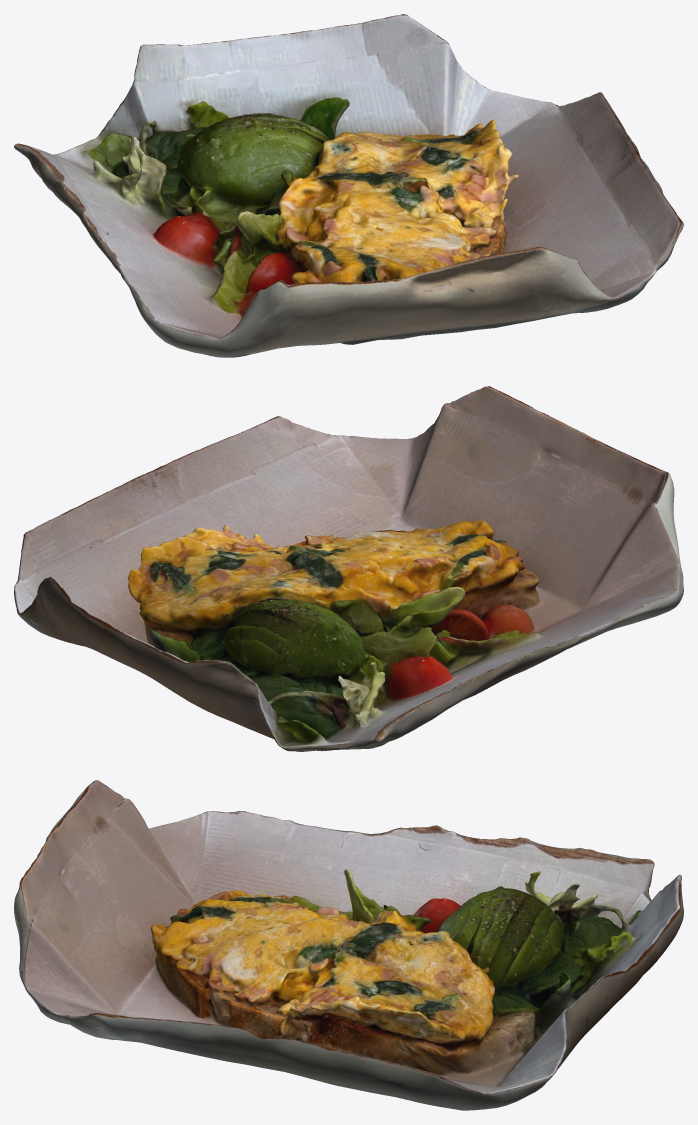
The model's file is kajganaavokado.glb.
3 renders of one model, top to bottom at view 1: azimuth 30°, elevation 25°; view 2: azimuth 150°, elevation 25°; view 3: azimuth 270°, elevation 25°, orthographic. The views are drawn at different scales.
Size of the model in its own units: 0.7051 by 0.1724 by 0.7338.
1 material, 1 textured.
